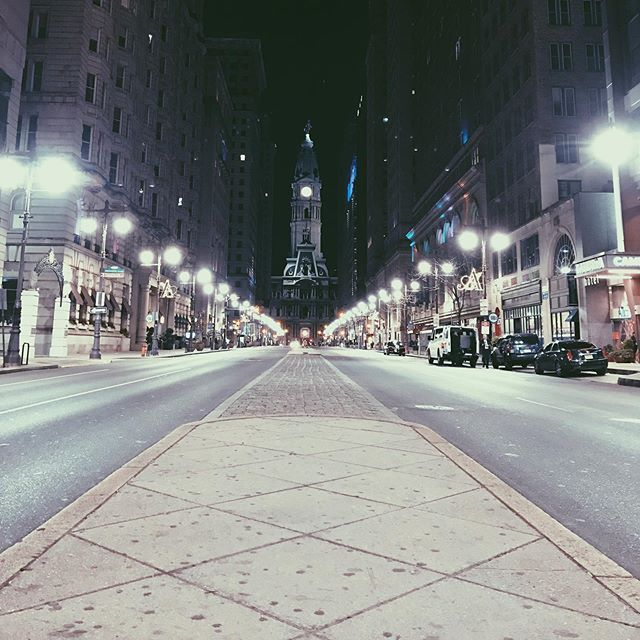building: (367, 1, 640, 341), (1, 1, 267, 339), (264, 119, 341, 341)
car: (538, 338, 610, 379), (424, 322, 481, 367), (490, 329, 538, 369)
street: (14, 346, 640, 640)
